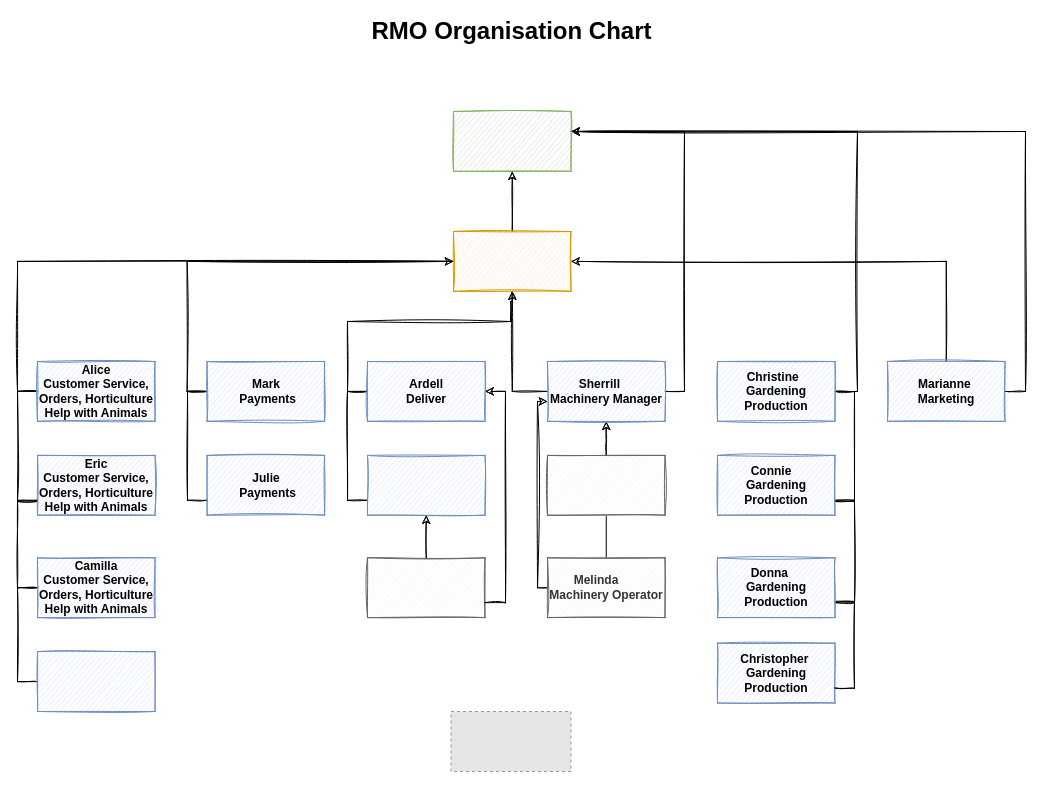
The diagram is 1051 pixels wide and 789 high, and some of its shapes have lost their labels. Grey dashed boxes stand in for pictures. The centre of each missing label's shape, as x and y in pixels:
"Belle Business Admin" belongs at pixel 511 260.
"Henry Production and Harvest - Owner" belongs at pixel 511 140.
"John Customer Service, Orders, Horticulture Help with Animals" belongs at pixel 95 681.
"Lexi Assistant Deliver" belongs at pixel 425 587.
"Natasha Machinery Operator" belongs at pixel 605 484.
"Richard Deliver" belongs at pixel 425 484.
